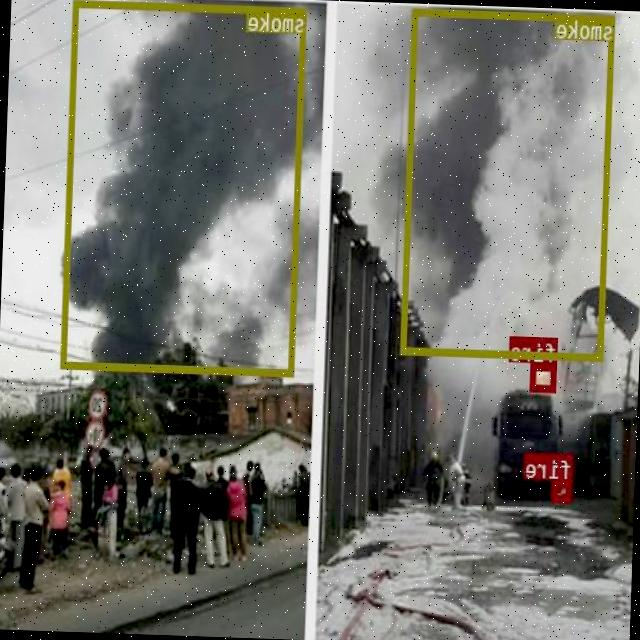fire: (530, 362, 558, 391), (552, 478, 572, 500)
smoke: (61, 0, 307, 375), (401, 8, 616, 360)
